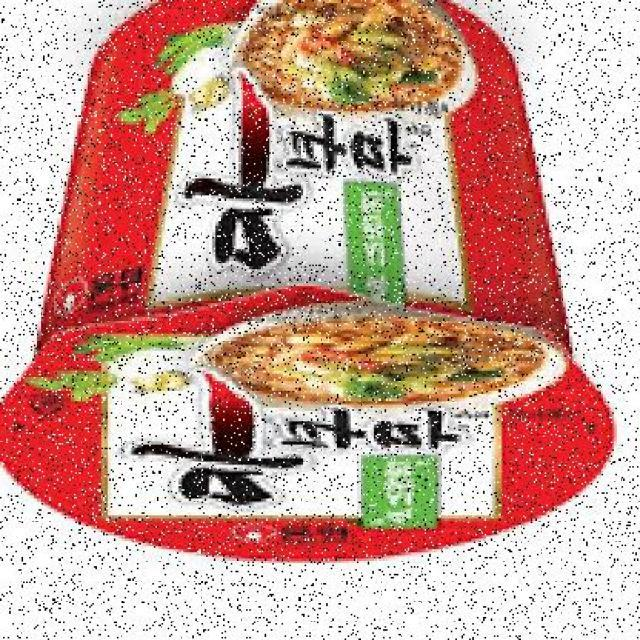Miscellaneous: (0, 0, 609, 569)
